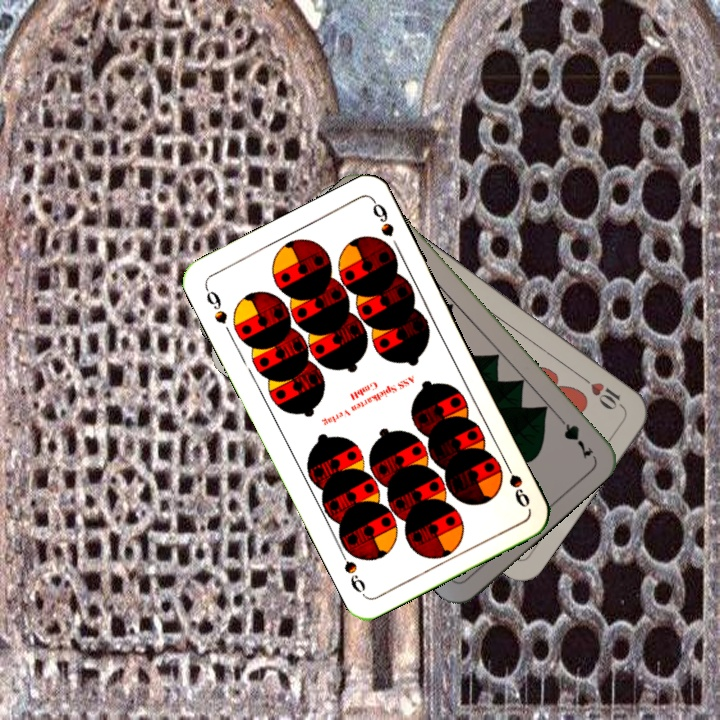G7: (551, 409, 597, 461)
H10: (575, 371, 626, 413)
S9: (499, 456, 533, 510), (200, 283, 230, 327)
